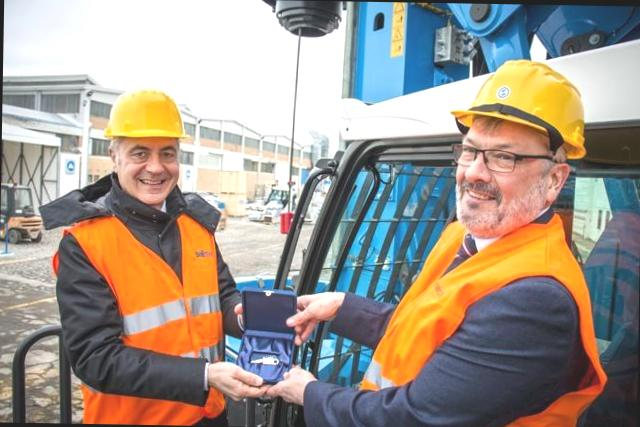helmet: (445, 54, 589, 162), (98, 84, 195, 151)
person: (341, 51, 614, 427), (46, 83, 260, 426)
